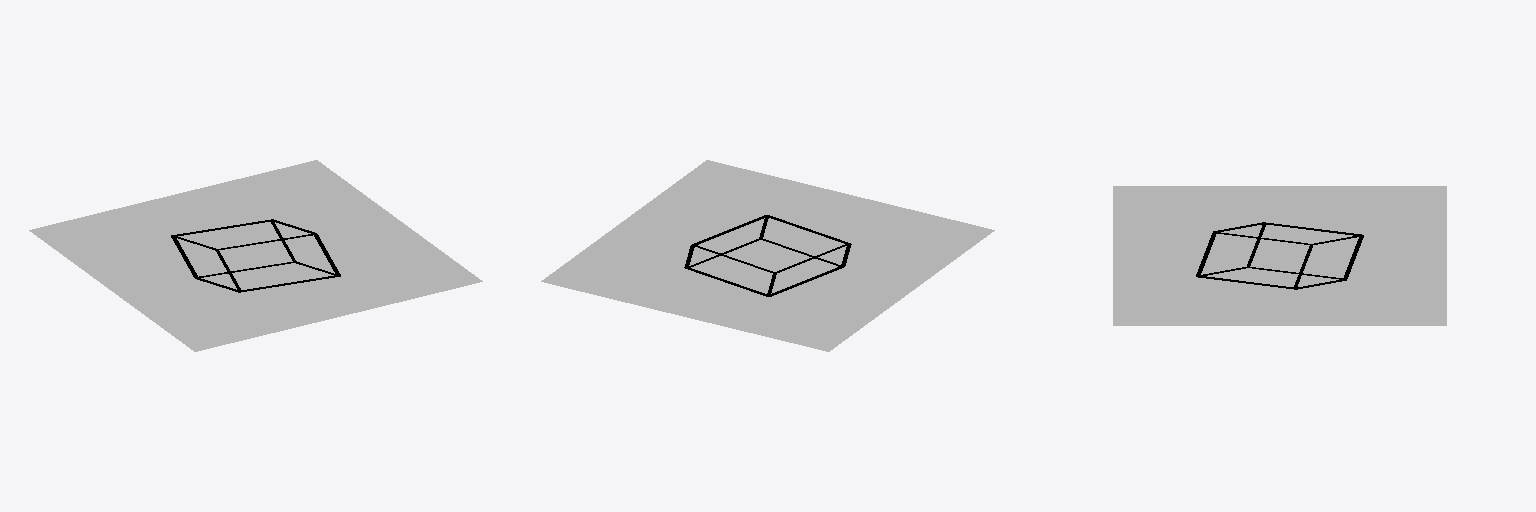
Rendered from shadow.obj.
The picture shows the model from 3 angles: view 1: azimuth 30°, elevation 25°; view 2: azimuth 150°, elevation 25°; view 3: azimuth 270°, elevation 25°; orthographic projection.
Visible parts, largest first — view 1: Cube.002_Cube.004; view 2: Cube.002_Cube.004; view 3: Cube.002_Cube.004.
Boxes of the visible parts, x1=… form: Cube.002_Cube.004: x1=29, y1=160, x2=482, y2=351; Cube.002_Cube.004: x1=541, y1=160, x2=994, y2=351; Cube.002_Cube.004: x1=1113, y1=186, x2=1446, y2=325.
Bounding box in the file's own units: 10.79 × 0 × 10.79.